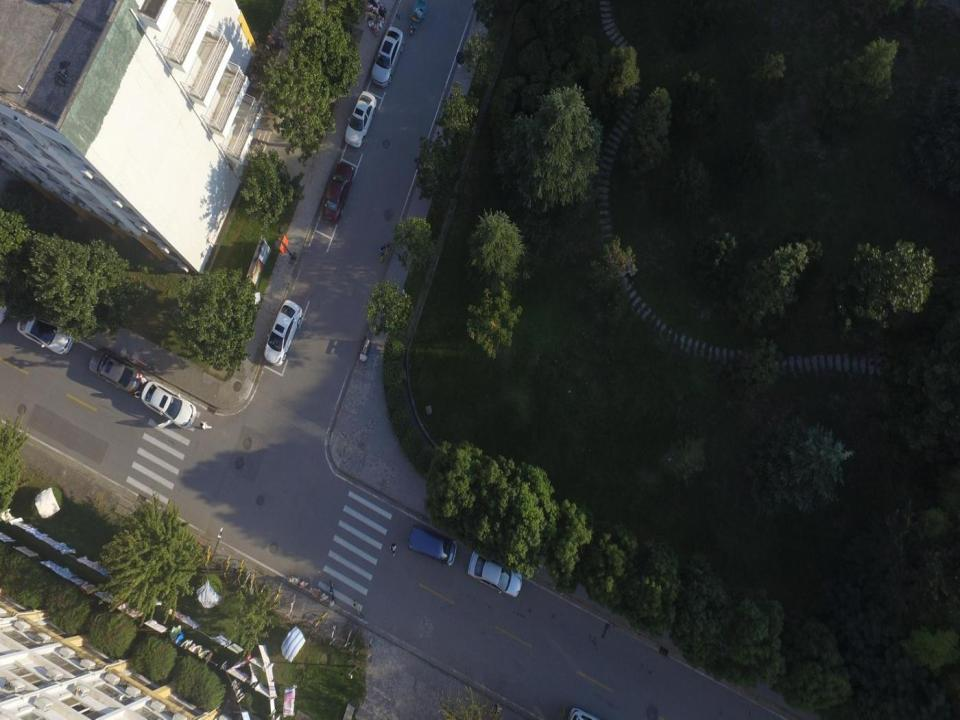car: (139, 378, 196, 430), (262, 298, 304, 366), (466, 549, 522, 598), (86, 347, 140, 393), (17, 312, 74, 354), (407, 524, 457, 570), (321, 160, 354, 224), (368, 25, 403, 83), (345, 89, 377, 148)
